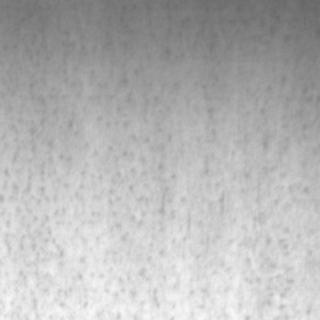pitted_surface: (0, 1, 314, 316)
